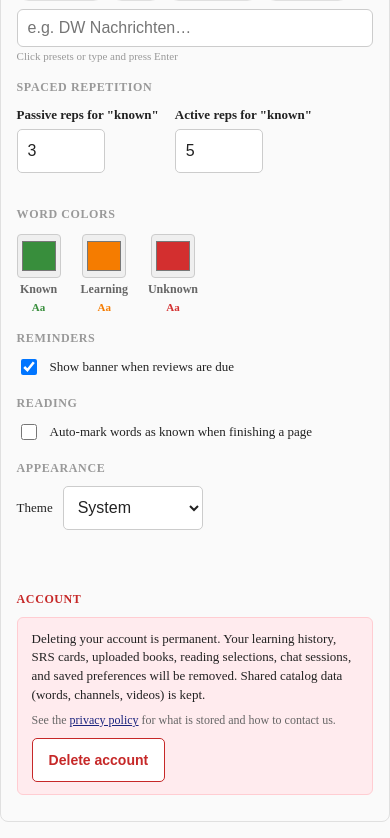
it: SettingsPanel — account deletion › clicking start reveals confirm + cancel, hides start
(page scrolled)
Click the button with test id "account-delete-start": [98, 760] box [32,738,165,782]
(page scrolled)
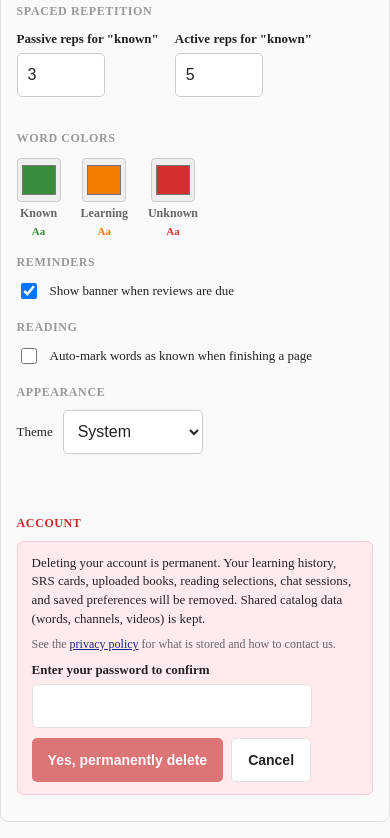
Expected: the button with test id "account-delete-confirm" is shown, [32,738,223,782]
Expected: the button with test id "account-delete-cancel" is shown, [231,738,311,782]
Expected: the button with test id "account-delete-start" is gone
